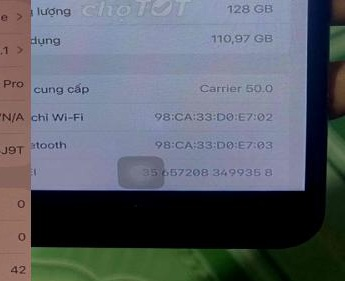scratch: (124, 194, 148, 210)
